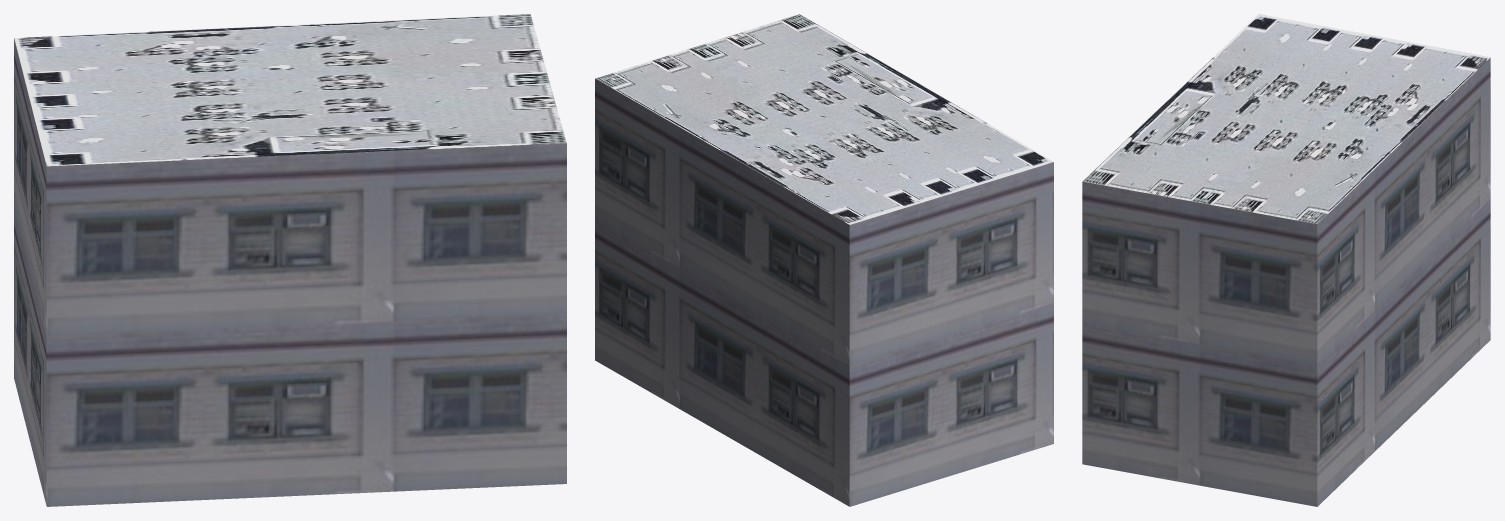
The model's file is ResTex__583.fbx.
The picture shows the model from 3 angles, left to right: view 1: azimuth 30°, elevation 25°; view 2: azimuth 150°, elevation 25°; view 3: azimuth 270°, elevation 25°; orthographic projection. The views are drawn at different scales.
Visible parts, largest first — view 1: CityEngineMaterial_1_m, CityEngineMaterial_m; view 2: CityEngineMaterial_1_m, CityEngineMaterial_m; view 3: CityEngineMaterial_1_m, CityEngineMaterial_m.
Part boxes in pixels (x1=…): CityEngineMaterial_1_m: x1=14, y1=38, x2=566, y2=506; CityEngineMaterial_m: x1=14, y1=14, x2=566, y2=166; CityEngineMaterial_1_m: x1=595, y1=78, x2=1053, y2=506; CityEngineMaterial_m: x1=595, y1=14, x2=1053, y2=224; CityEngineMaterial_1_m: x1=1082, y1=58, x2=1490, y2=506; CityEngineMaterial_m: x1=1082, y1=14, x2=1490, y2=223.
Size of the model in its own units: 9.57 by 6 by 7.86.
Materials: 2 (2 with a texture image).
